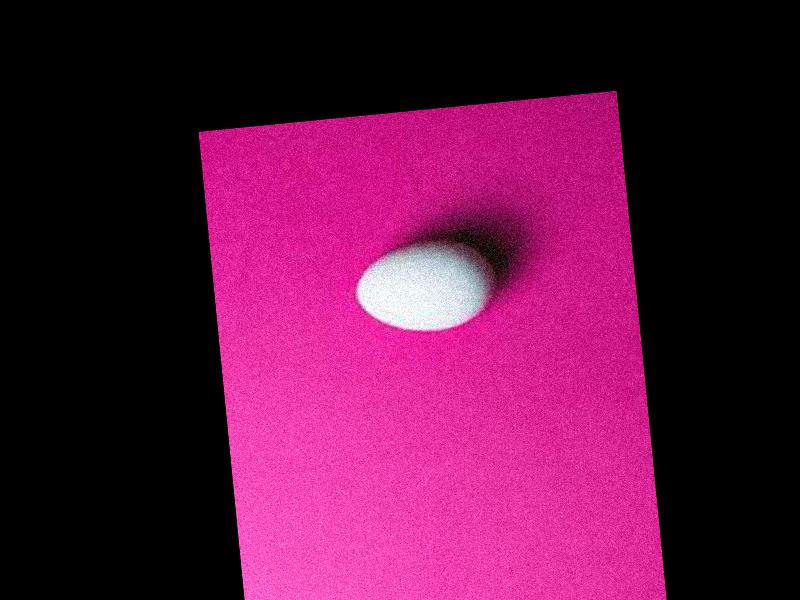Eggs: (351, 236, 498, 338)
